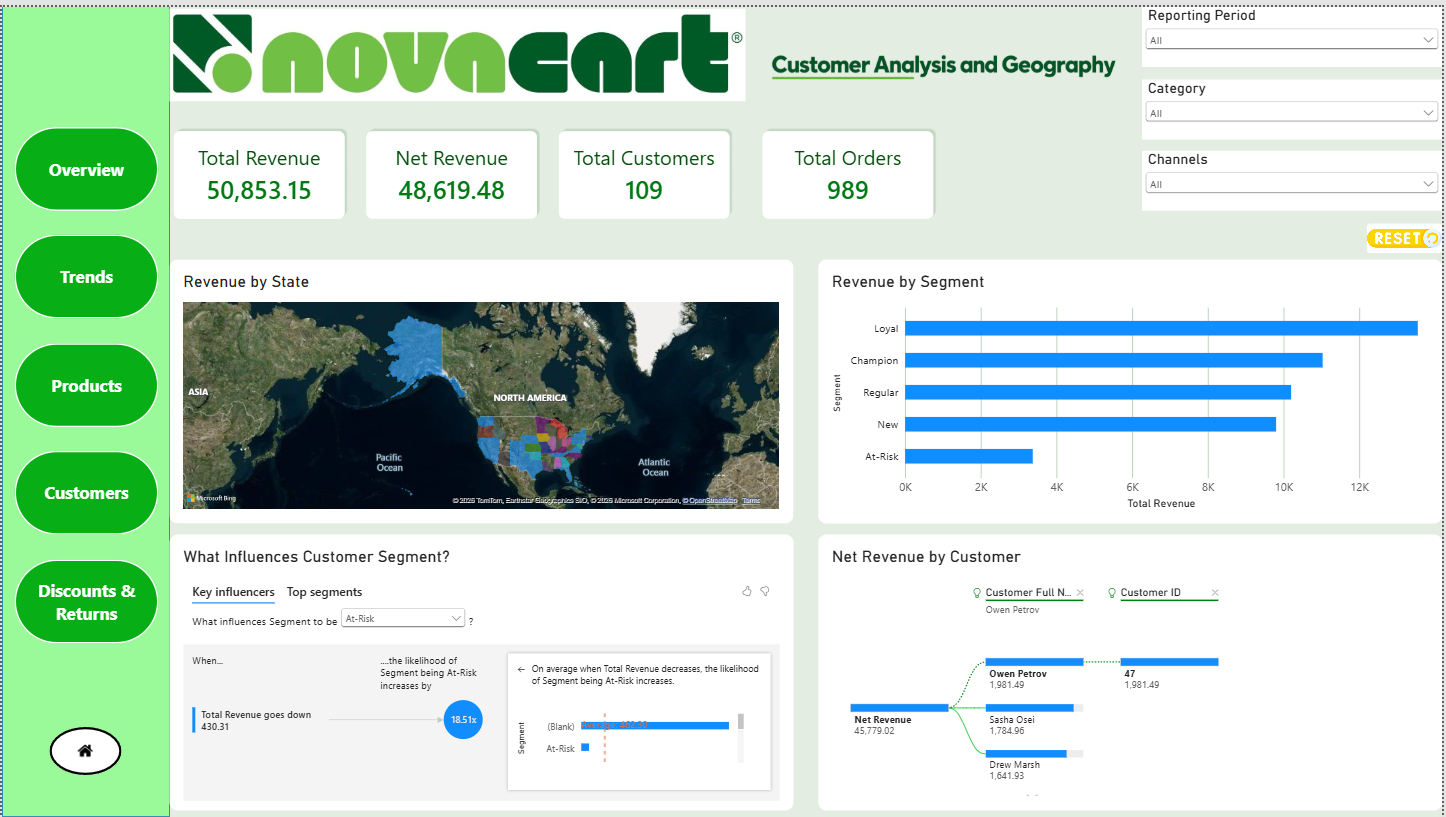

What the dashboard file says about the page in this screenshot:
{"tool":"powerbi","page":{"name":"Customers","canvas":[1920,1080],"ordinal":3},"visuals":[{"type":"shape","box":[0,-8,224,1088],"z":0},{"type":"image","box":[224,0,768,128],"z":1000},{"type":"cardVisual","fields":{"Data":["Order Data.Total Revenue"]},"box":[224,160,240,128],"z":2000},{"type":"decompositionTreeVisual","title":"Net Revenue by Customer","fields":{"Analyze":["Order Data.Net Revenue"],"ExplainBy":["Customer Data.Customer Full Name","Order Data.Customer ID"]},"box":[1088,704,832,368],"z":3000},{"type":"clusteredBarChart","title":"Revenue by Segment","fields":{"Category":["Customer Data.Segment"],"Y":["Order Data.Total Revenue"]},"box":[1088,336,832,352],"z":4000},{"type":"filledMap","title":"Revenue by State","fields":{"Category":["Customer Data.State"],"Series":["Order Data.Net Sales"]},"box":[224,336,832,352],"z":5000},{"type":"keyDriversVisual","title":"What Influences Customer Segment?","fields":{"ExplainBy":["Order Data.Total Revenue"],"Target":["Customer Data.Segment"]},"box":[224,704,832,368],"z":6000},{"type":"cardVisual","fields":{"Data":["Order Data.Net Revenue"]},"box":[480,160,240,128],"z":7000},{"type":"cardVisual","fields":{"Data":["Order Data.Total Customers"]},"box":[736,160,240,128],"z":8000},{"type":"slicer","fields":{"Values":["Date Table.Year","Date Table.Month Name"]},"box":[1520,0,400,80],"z":9000},{"type":"slicer","fields":{"Values":["Product Data.Category"]},"box":[1520,96,400,80],"z":10000},{"type":"slicer","fields":{"Values":["Order Data.Channel"]},"box":[1520,192,400,80],"z":11000},{"type":"cardVisual","fields":{"Data":["Customer Data.Total Orders"]},"box":[1008,160,240,128],"z":12000},{"type":"actionButton","box":[1820,288,100,40],"z":13000},{"type":"actionButton","box":[16,160,192,112],"z":13001},{"type":"actionButton","box":[16,304,192,112],"z":13002},{"type":"actionButton","box":[16,448,192,112],"z":13003},{"type":"actionButton","box":[16,592,192,112],"z":13004},{"type":"actionButton","box":[16,736,192,112],"z":13005},{"type":"image","box":[992,0,528,160],"z":13006},{"type":"actionButton","box":[64,960,96,64],"z":13007}]}

Visuals, with their boxes in screenshot pixels (x1, y1, x2, y2), scaled from the page's 1920x1080 canvas onto the 1446x817 screenshot:
shape: crop(0, 0, 169, 816)
image: crop(169, 0, 747, 97)
cardVisual - Order Data.Total Revenue: crop(169, 121, 349, 218)
"Net Revenue by Customer" decompositionTreeVisual: crop(819, 533, 1445, 811)
"Revenue by Segment" clusteredBarChart: crop(819, 254, 1445, 520)
"Revenue by State" filledMap: crop(169, 254, 795, 520)
"What Influences Customer Segment?" keyDriversVisual: crop(169, 533, 795, 811)
cardVisual - Order Data.Net Revenue: crop(362, 121, 542, 218)
cardVisual - Order Data.Total Customers: crop(554, 121, 735, 218)
slicer - Date Table.Year x Date Table.Month Name: crop(1145, 0, 1445, 61)
slicer - Product Data.Category: crop(1145, 73, 1445, 133)
slicer - Order Data.Channel: crop(1145, 145, 1445, 206)
cardVisual - Customer Data.Total Orders: crop(759, 121, 940, 218)
actionButton: crop(1371, 218, 1445, 248)
actionButton: crop(12, 121, 157, 206)
actionButton: crop(12, 230, 157, 315)
actionButton: crop(12, 339, 157, 424)
actionButton: crop(12, 448, 157, 533)
actionButton: crop(12, 557, 157, 641)
image: crop(747, 0, 1145, 121)
actionButton: crop(48, 726, 120, 775)
